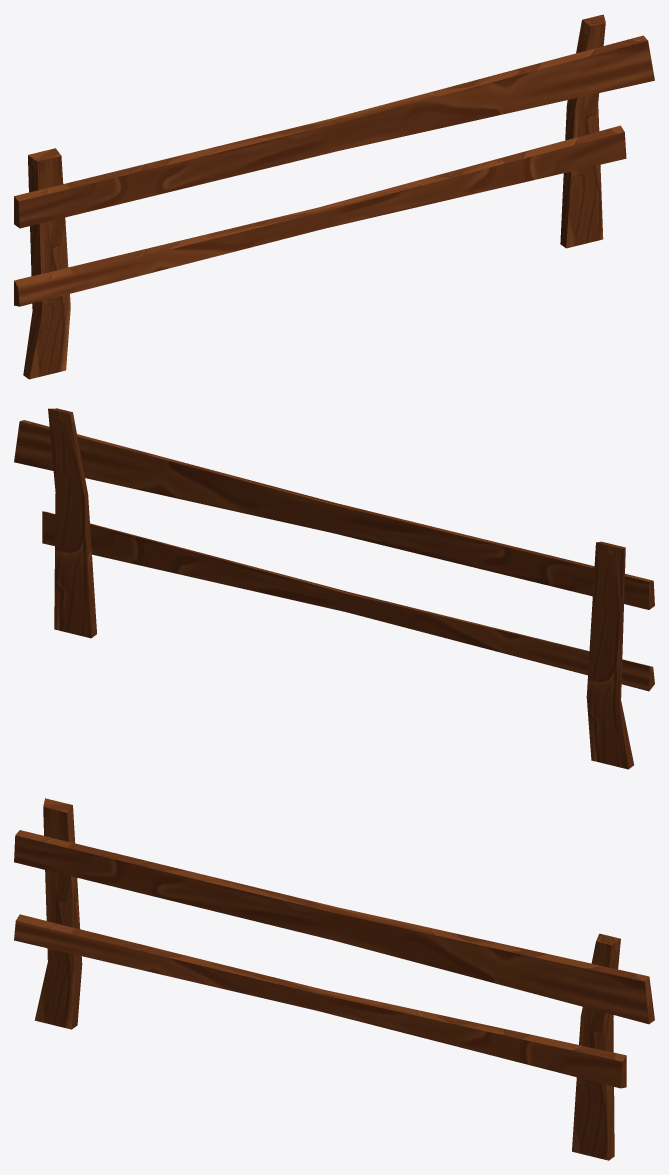
File: 1_Valla_Clara.fbx
3 views of the same model, one above another, from view 1: azimuth 30°, elevation 25°; view 2: azimuth 150°, elevation 25°; view 3: azimuth 330°, elevation 25° (orthographic).
Visible parts, largest first — view 1: V_Valla1_Clara; view 2: V_Valla1_Clara; view 3: V_Valla1_Clara.
Boxes of the visible parts, x1,y1,x2,y2 form: V_Valla1_Clara: [14, 14, 654, 379]; V_Valla1_Clara: [14, 408, 654, 769]; V_Valla1_Clara: [14, 798, 654, 1160].
Bounding box in the file's own units: 172 × 56.77 × 5.42.
